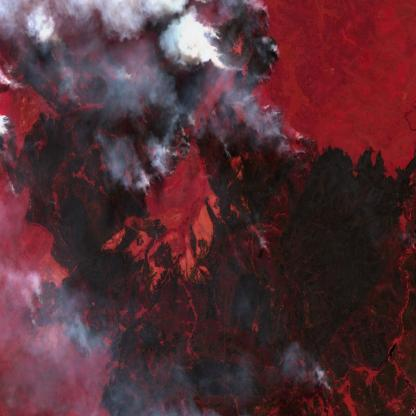fire: (140, 129, 194, 194), (252, 1, 281, 86), (277, 121, 311, 163), (252, 96, 286, 122), (314, 361, 332, 401), (29, 290, 44, 335), (66, 88, 91, 108), (258, 235, 272, 256), (226, 148, 235, 165)
